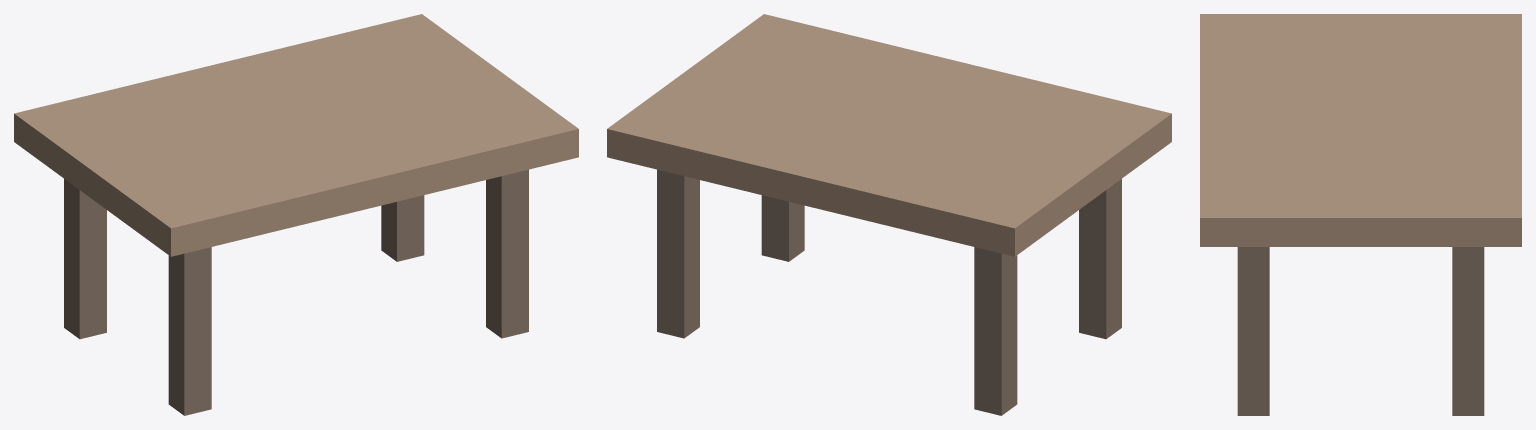
File: dining_table.glb
The picture shows the model from 3 angles, left to right: view 1: azimuth 30°, elevation 25°; view 2: azimuth 150°, elevation 25°; view 3: azimuth 270°, elevation 25°; orthographic projection. The views are drawn at different scales.
Visible parts, largest first — view 1: part_00, part_02, part_04, part_01, part_03; view 2: part_00, part_01, part_03, part_02, part_04; view 3: part_00, part_03, part_04.
Boxes of the visible parts, box(x1,y1,x2,y2) form: part_00: box(14, 14, 578, 256); part_02: box(168, 247, 211, 415); part_04: box(486, 169, 528, 338); part_01: box(64, 179, 106, 339); part_03: box(381, 195, 424, 261); part_00: box(607, 14, 1171, 256); part_01: box(974, 247, 1017, 415); part_03: box(657, 169, 699, 338); part_02: box(1079, 179, 1121, 339); part_04: box(761, 195, 804, 261); part_00: box(1200, 14, 1521, 246); part_03: box(1452, 247, 1484, 415); part_04: box(1237, 247, 1269, 415).
Size of the model in its own units: 1.8 by 0.88 by 1.2.
